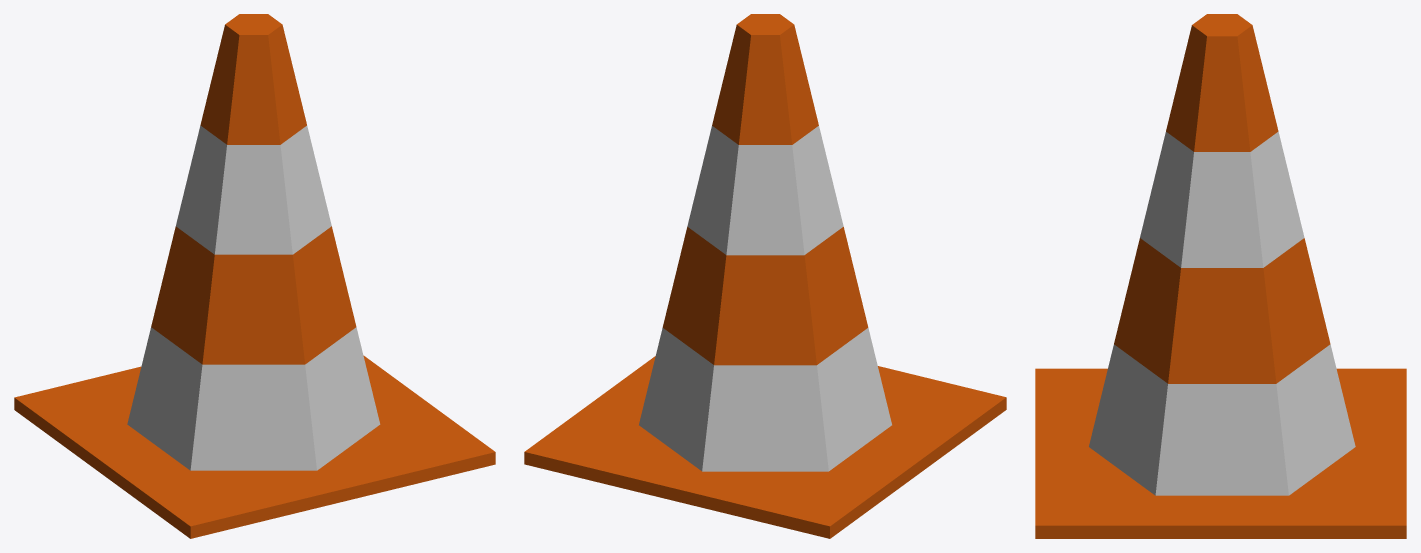
The model's file is Traffic_cone.fbx.
3 renders of one model, left to right at view 1: azimuth 30°, elevation 25°; view 2: azimuth 150°, elevation 25°; view 3: azimuth 270°, elevation 25°, orthographic. The views are drawn at different scales.
Parts seen in each view (by area): view 1: Traffic_cone; view 2: Traffic_cone; view 3: Traffic_cone.
Boxes of the visible parts, bbox=[...] form: Traffic_cone: bbox=[14, 14, 495, 538]; Traffic_cone: bbox=[524, 14, 1006, 538]; Traffic_cone: bbox=[1035, 14, 1406, 538].
Size of the model in its own units: 0.6879 by 0.8886 by 0.6879.
